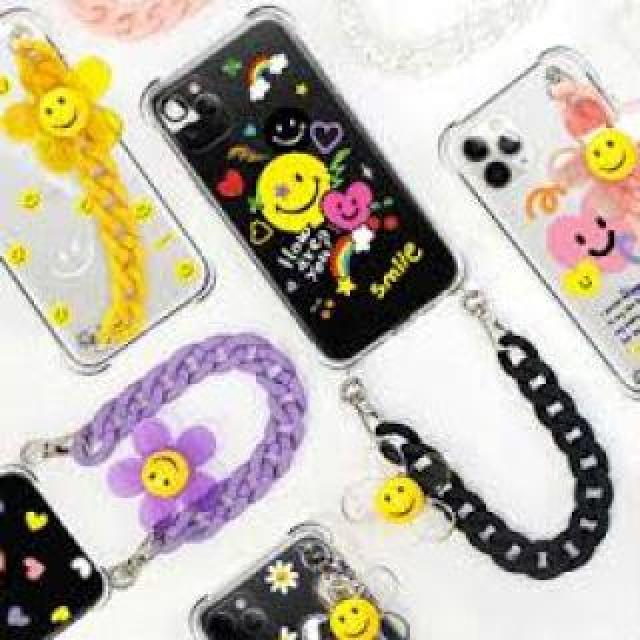smart phone: (210, 0, 422, 358), (440, 26, 640, 368)
